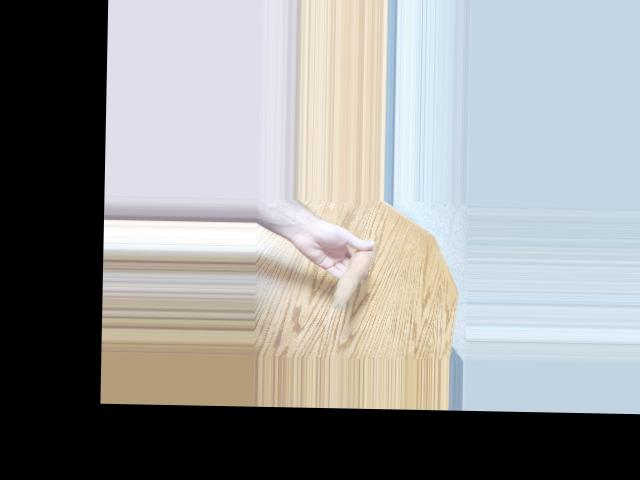sweet_potato: (326, 236, 377, 311)
